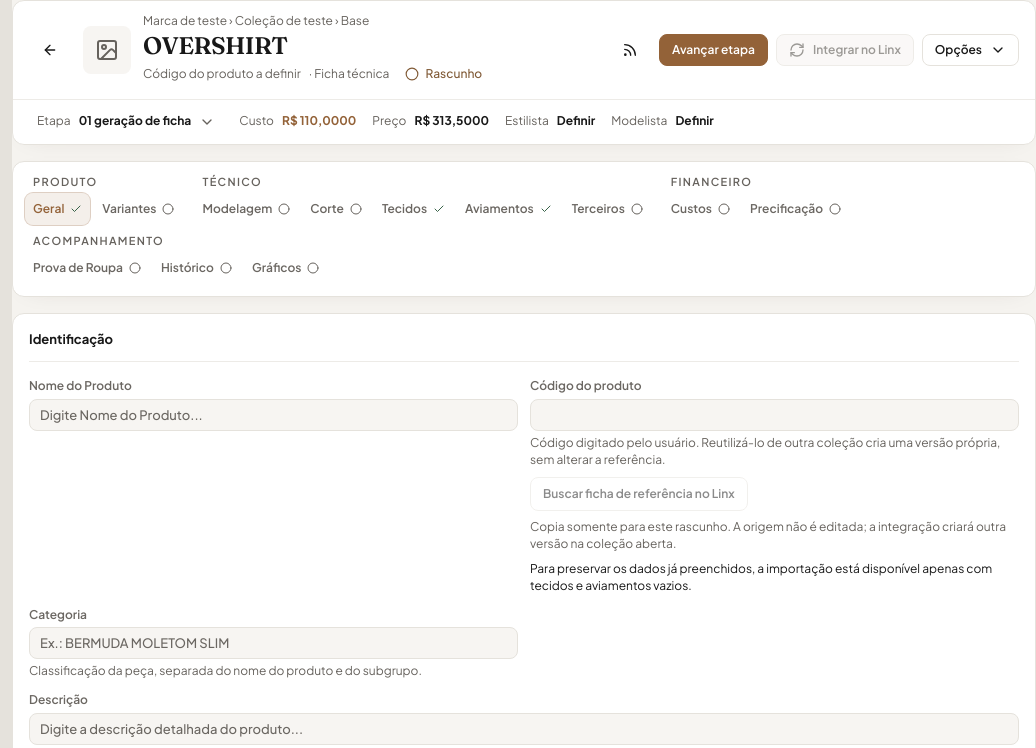
Test case: Cabeçalho ligado à ficha › mantém a etapa atual quando falha o armazenamento
Step 1. Click the button "Avançar etapa" → coordinates (714, 50), box x1=659 y1=34 x2=768 y2=66
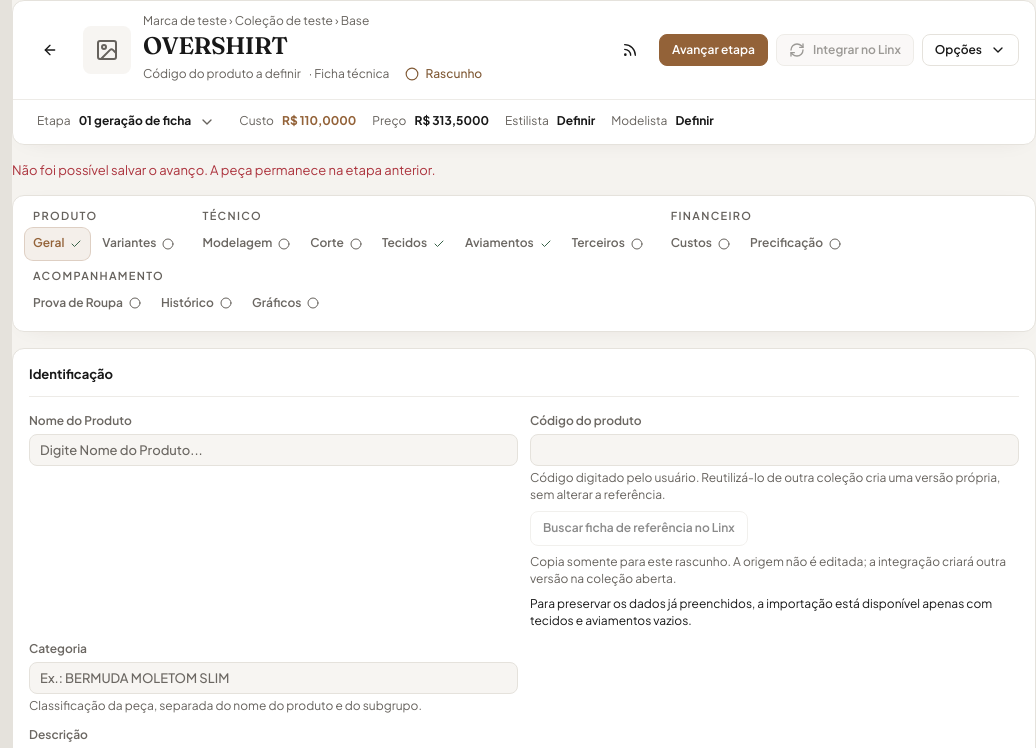
Expected: the text "01 geração de ficha" is shown, x1=79 y1=113 x2=191 y2=130
Result: the text "Não foi possível salvar o avanço. A peça permanece na etapa anterior." is shown at x1=12 y1=162 x2=435 y2=178
